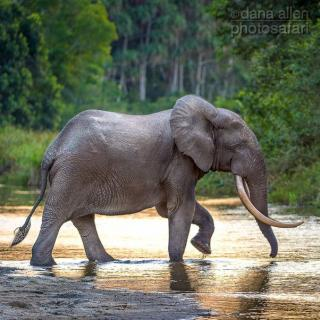Elephant: (8, 87, 310, 274)
